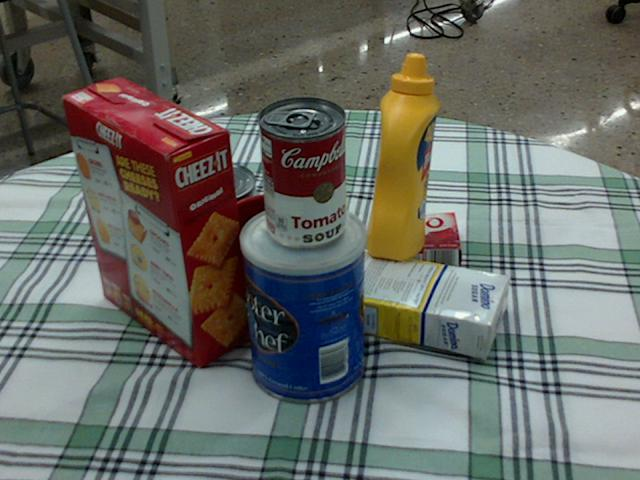cracker_box: (60, 79, 251, 365)
gelatin_box: (372, 213, 458, 270)
master_chef_can: (239, 201, 365, 403)
mug: (218, 193, 314, 305)
mustard_bottle: (366, 54, 439, 260)
potted_meat_can: (149, 183, 263, 272)
sugar_box: (305, 245, 510, 355)
tomato_soup_can: (255, 96, 344, 247)
tuna_fish_can: (172, 161, 256, 229)
